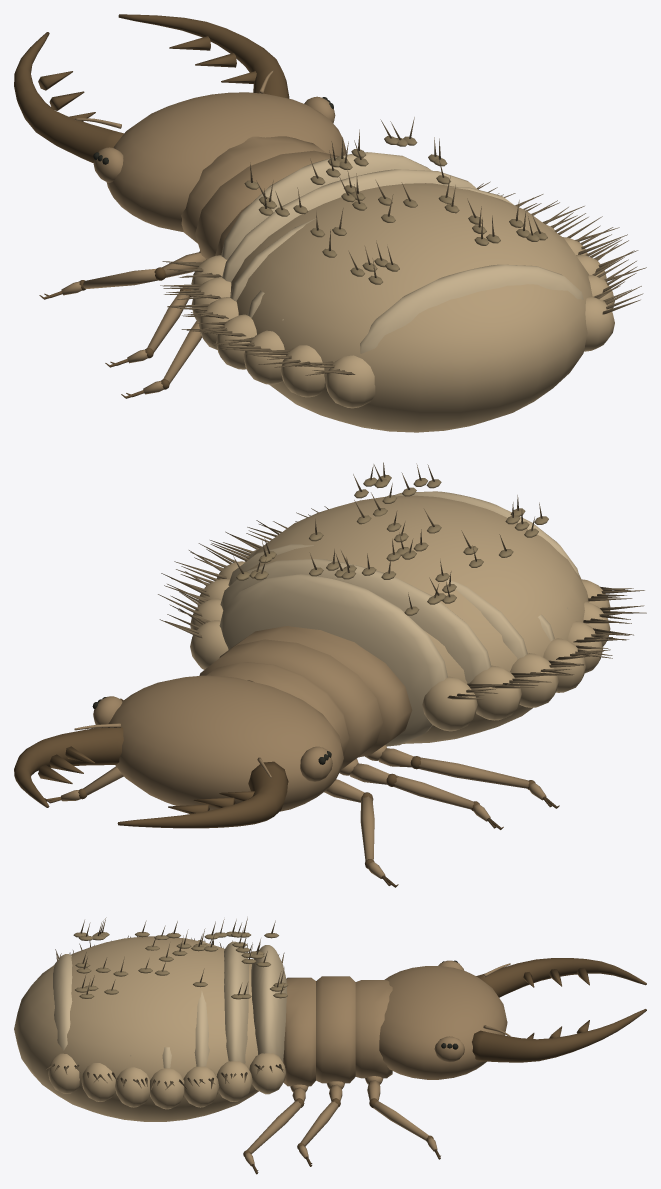
Rendered from AntlionLarva.fbx.
3 renders of one model, top to bottom at view 1: azimuth 30°, elevation 25°; view 2: azimuth 150°, elevation 25°; view 3: azimuth 270°, elevation 25°, orthographic. The views are drawn at different scales.
Parts seen in each view (by area): view 1: Material group AntlionLarva_Sand_abdomen, Material group AntlionLarva_Head_and_thorax, Material group AntlionLarva_Dorsal_segments, Material group AntlionLarva_Sickle_mandibles, Material group AntlionLarva_Bristles, Material group AntlionLarva_Dark_mottling; view 2: Material group AntlionLarva_Head_and_thorax, Material group AntlionLarva_Sand_abdomen, Material group AntlionLarva_Dorsal_segments, Material group AntlionLarva_Sickle_mandibles, Material group AntlionLarva_Bristles, Material group AntlionLarva_Dark_mottling; view 3: Material group AntlionLarva_Sand_abdomen, Material group AntlionLarva_Head_and_thorax, Material group AntlionLarva_Dorsal_segments, Material group AntlionLarva_Sickle_mandibles, Material group AntlionLarva_Dark_mottling, Material group AntlionLarva_Bristles.
Boxes of the visible parts, x1,y1,x2,y2 form: Material group AntlionLarva_Sand_abdomen: (191, 183, 614, 432); Material group AntlionLarva_Head_and_thorax: (61, 70, 346, 394); Material group AntlionLarva_Dorsal_segments: (221, 152, 583, 353); Material group AntlionLarva_Sickle_mandibles: (14, 14, 289, 398); Material group AntlionLarva_Bristles: (160, 117, 646, 375); Material group AntlionLarva_Dark_mottling: (244, 136, 547, 284); Material group AntlionLarva_Head_and_thorax: (61, 626, 546, 878); Material group AntlionLarva_Sand_abdomen: (190, 495, 610, 743); Material group AntlionLarva_Dorsal_segments: (219, 491, 579, 746); Material group AntlionLarva_Sickle_mandibles: (14, 698, 559, 887); Material group AntlionLarva_Bristles: (158, 462, 646, 699); Material group AntlionLarva_Dark_mottling: (236, 475, 548, 615); Material group AntlionLarva_Sand_abdomen: (14, 936, 285, 1121); Material group AntlionLarva_Head_and_thorax: (244, 960, 510, 1166); Material group AntlionLarva_Dorsal_segments: (53, 940, 286, 1094); Material group AntlionLarva_Sickle_mandibles: (243, 958, 646, 1174); Material group AntlionLarva_Dark_mottling: (73, 931, 287, 999); Material group AntlionLarva_Bristles: (46, 917, 284, 1090).
Bounding box in the file's own units: 0.6045 × 0.2804 × 1.
